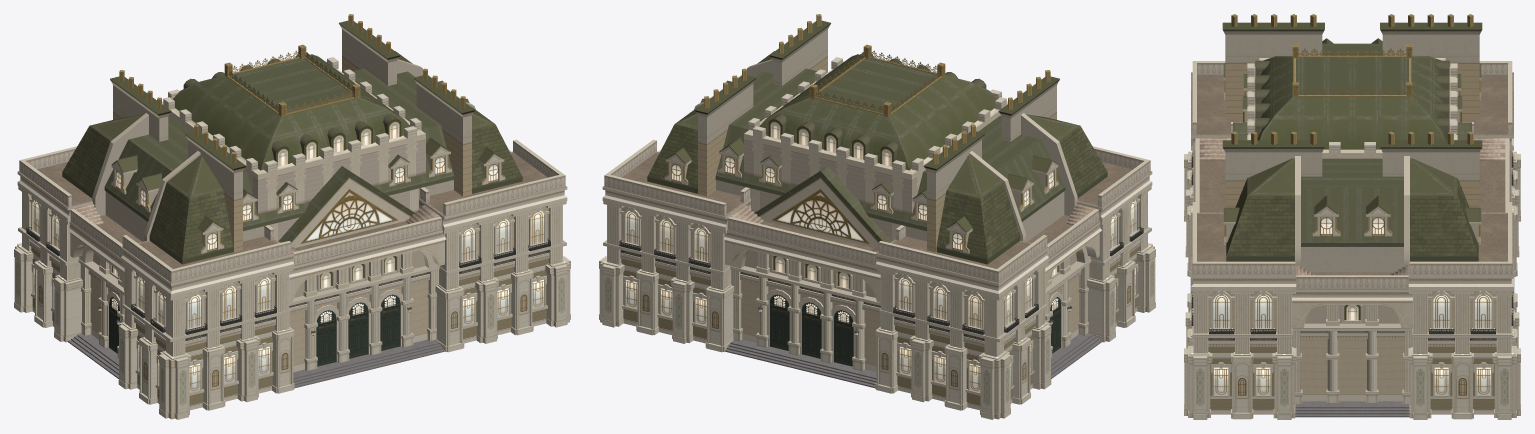
The model's file is t1_b_cityhall.glb.
The picture shows the model from 3 angles, left to right: view 1: azimuth 30°, elevation 25°; view 2: azimuth 150°, elevation 25°; view 3: azimuth 270°, elevation 25°; orthographic projection. The views are drawn at different scales.
Parts seen in each view (by area): view 1: nomerge_t1_b_cityhall_mesh, nomerge_t1_b_cityhall_vert_col; view 2: nomerge_t1_b_cityhall_mesh, nomerge_t1_b_cityhall_vert_col; view 3: nomerge_t1_b_cityhall_mesh, nomerge_t1_b_cityhall_vert_col.
Part boxes in pixels (x1,y1,x2,y2): nomerge_t1_b_cityhall_mesh: (14, 14, 570, 419); nomerge_t1_b_cityhall_vert_col: (18, 151, 566, 283); nomerge_t1_b_cityhall_mesh: (599, 14, 1155, 419); nomerge_t1_b_cityhall_vert_col: (603, 151, 1151, 283); nomerge_t1_b_cityhall_mesh: (1184, 14, 1520, 419); nomerge_t1_b_cityhall_vert_col: (1191, 72, 1513, 289).
Size of the model in its own units: 35.08 by 19.73 by 23.98.
6 materials, 6 textured.
